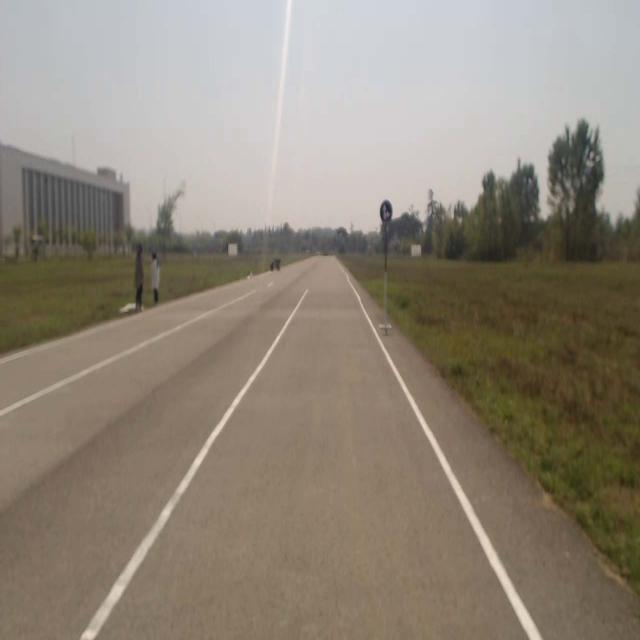ilerisag: (380, 201, 393, 224)
